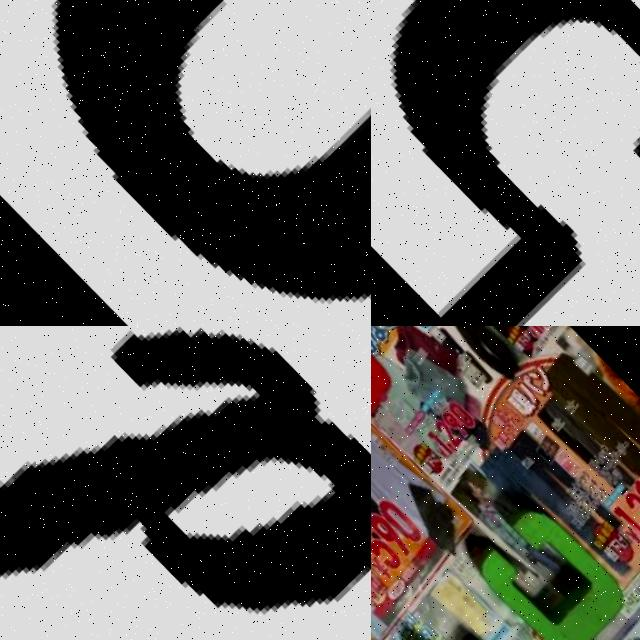5: (371, 0, 640, 326)
C: (460, 475, 633, 640)
D: (0, 326, 371, 640)
F: (371, 591, 530, 640)
